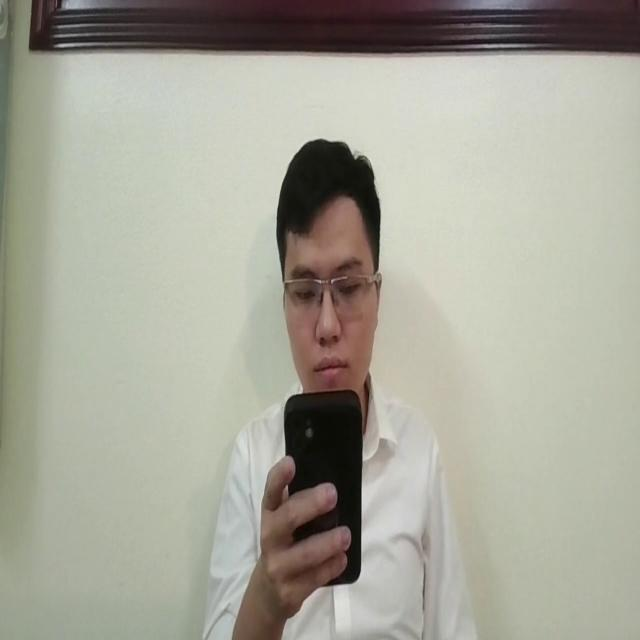phone: (284, 384, 361, 590)
student: (201, 136, 479, 640)
